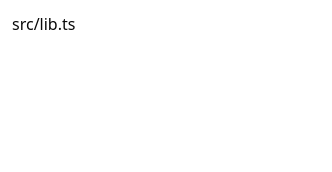
link safety direct opening › reflects the in-flight state on the file path button while a preview is opening
Click the button "src/lib.ts".
click(44, 24)  # box x1=12 y1=12 x2=75 y2=36
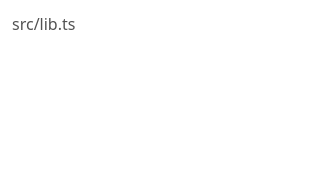
Result: the button "src/lib.ts" is disabled
// Clicking while busy must not enqueue another open call.
Click the button "src/lib.ts".
click(44, 24)  # box x1=12 y1=12 x2=75 y2=36
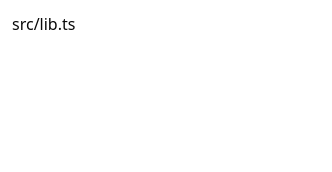
Result: the button "src/lib.ts" is enabled at x1=12 y1=12 x2=75 y2=36
